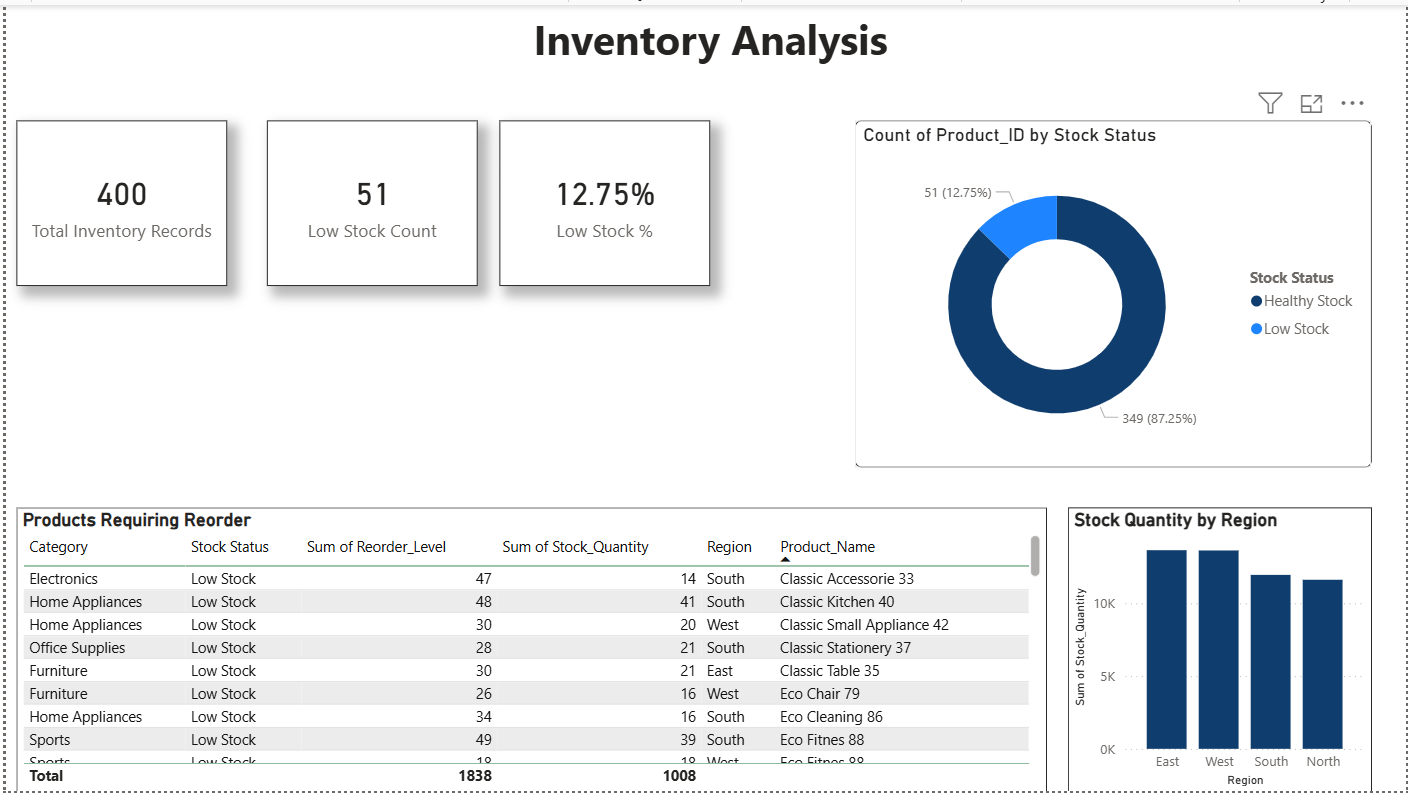

This screenshot's page, from the dashboard's own definition file:
{"tool":"powerbi","page":{"name":"Page 2","canvas":[1280,720],"ordinal":1},"visuals":[{"type":"textbox","box":[9.4,0,1269.9,71.8],"z":0},{"type":"card","fields":{"Values":["Measure.Total Inventory Records"]},"box":[9.4,105.8,192.8,151.2],"z":1000},{"type":"card","fields":{"Values":["Measure.Low Stock Count"]},"box":[238.1,105.8,192.8,151.2],"z":2000},{"type":"card","fields":{"Values":["Measure.Low Stock %"]},"box":[451.7,105.8,192.8,151.2],"z":3000},{"type":"donutChart","fields":{"Category":["Inventory.Stock Status"],"Y":["CountNonNull(Inventory.Product_ID)"]},"box":[776.7,105.8,472.4,317.5],"z":4000},{"type":"tableEx","title":"Products Requiring Reorder","fields":{"Values":["Products.Category","Inventory.Stock Status","Sum(Inventory.Reorder_Level)","Sum(Inventory.Stock_Quantity)","Inventory.Region","Products.Product_Name"]},"box":[9.4,459.2,943,260.8],"z":5000},{"type":"clusteredColumnChart","title":"Stock Quantity by Region","fields":{"Category":["Inventory.Region"],"Y":["Sum(Inventory.Stock_Quantity)"]},"box":[971.3,459.2,277.8,260.8],"z":6000}]}

Visuals, with their boxes in screenshot pixels (x1, y1, x2, y2), scaled from the page's 1280x720 canvas onto the 1408x793 screenshot:
textbox: bbox(10, 0, 1407, 79)
card - Measure.Total Inventory Records: bbox(10, 117, 222, 283)
card - Measure.Low Stock Count: bbox(262, 117, 474, 283)
card - Measure.Low Stock %: bbox(497, 117, 709, 283)
donutChart - Inventory.Stock Status x CountNonNull(Inventory.Product_ID): bbox(854, 117, 1374, 466)
"Products Requiring Reorder" tableEx: bbox(10, 506, 1048, 792)
"Stock Quantity by Region" clusteredColumnChart: bbox(1068, 506, 1374, 792)
